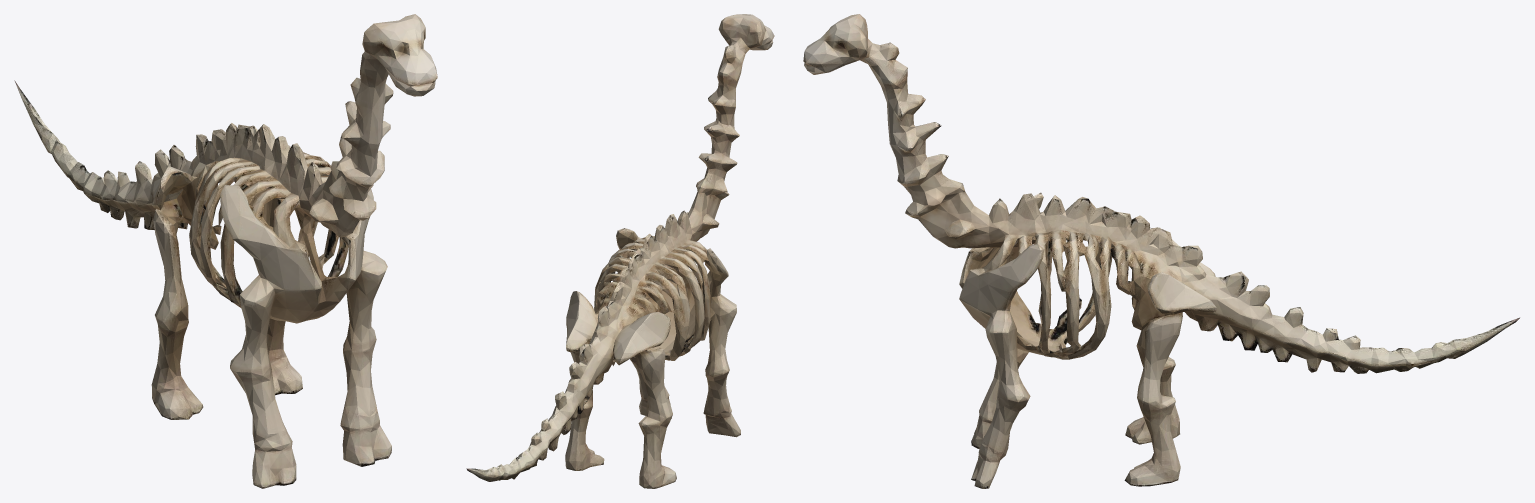
Rendered from argentinosaurus-skjelett.glb.
3 renders of one model, left to right at view 1: azimuth 30°, elevation 25°; view 2: azimuth 150°, elevation 25°; view 3: azimuth 270°, elevation 25°, orthographic. The views are drawn at different scales.
Parts seen in each view (by area): view 1: geometry_0; view 2: geometry_0; view 3: geometry_0.
Boxes of the visible parts, x1,y1,x2,y2 form: geometry_0: [14, 14, 437, 488]; geometry_0: [466, 14, 774, 488]; geometry_0: [803, 14, 1519, 488].
Size of the model in its own units: 0.2061 by 0.6781 by 1.
1 material, 1 textured.
